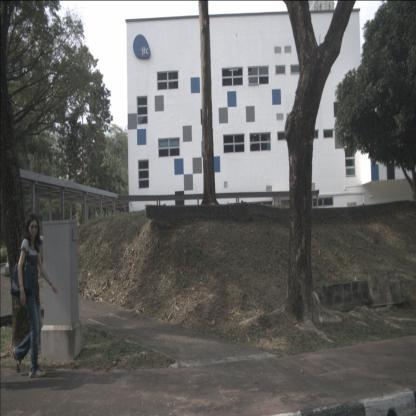human-pedestrian-adult: (10, 213, 58, 378)
